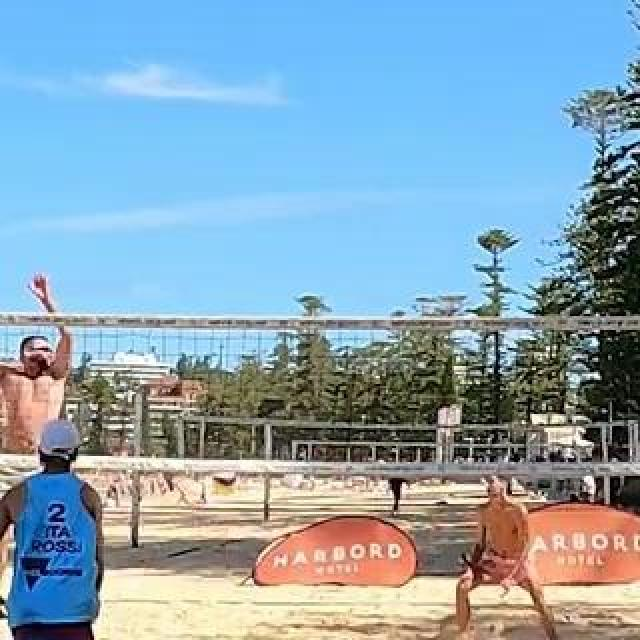volleyball: (211, 472, 237, 496)
